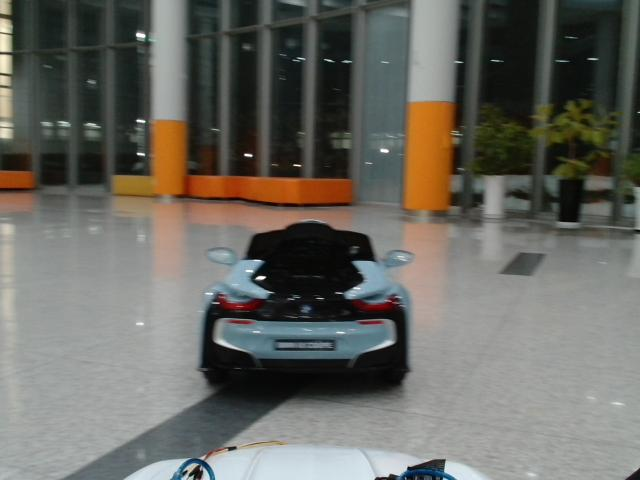car: (198, 219, 416, 384)
